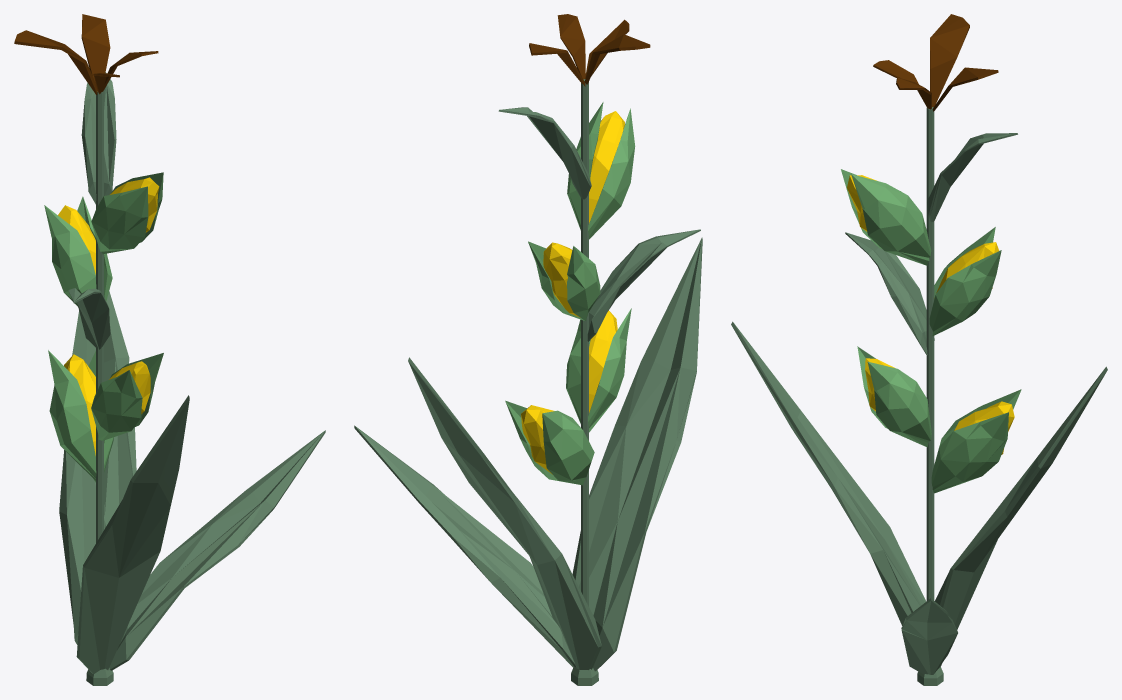
The model's file is corn.glb.
3 renders of one model, left to right at view 1: azimuth 30°, elevation 25°; view 2: azimuth 150°, elevation 25°; view 3: azimuth 270°, elevation 25°, orthographic. The views are drawn at different scales.
Visible parts, largest first — view 1: corn; view 2: corn; view 3: corn.
Boxes of the visible parts, bbox=[...] form: corn: bbox=[14, 14, 325, 685]; corn: bbox=[354, 14, 702, 685]; corn: bbox=[731, 14, 1107, 685].
Bounding box in the file's own units: 0.7529 × 1.56 × 0.8402.
1 material, 1 textured.
